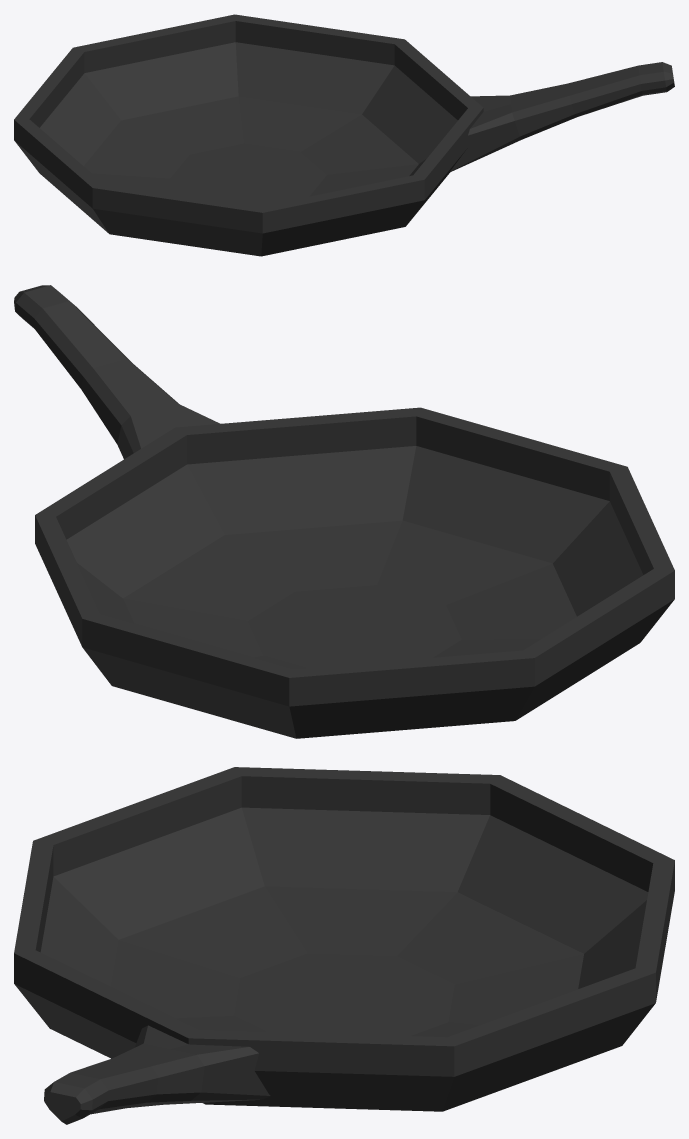
Rendered from Pan.fbx.
3 renders of one model, top to bottom at view 1: azimuth 30°, elevation 25°; view 2: azimuth 150°, elevation 25°; view 3: azimuth 270°, elevation 25°, orthographic. The views are drawn at different scales.
Parts seen in each view (by area): view 1: Pan; view 2: Pan; view 3: Pan.
Part boxes in pixels (left/top/right/bottom): Pan: left=14, top=14, right=674, bottom=256; Pan: left=14, top=285, right=674, bottom=738; Pan: left=14, top=767, right=674, bottom=1124.
Bounding box in the file's own units: 0.3741 × 0.0709 × 0.2739.
1 material, 1 textured.
